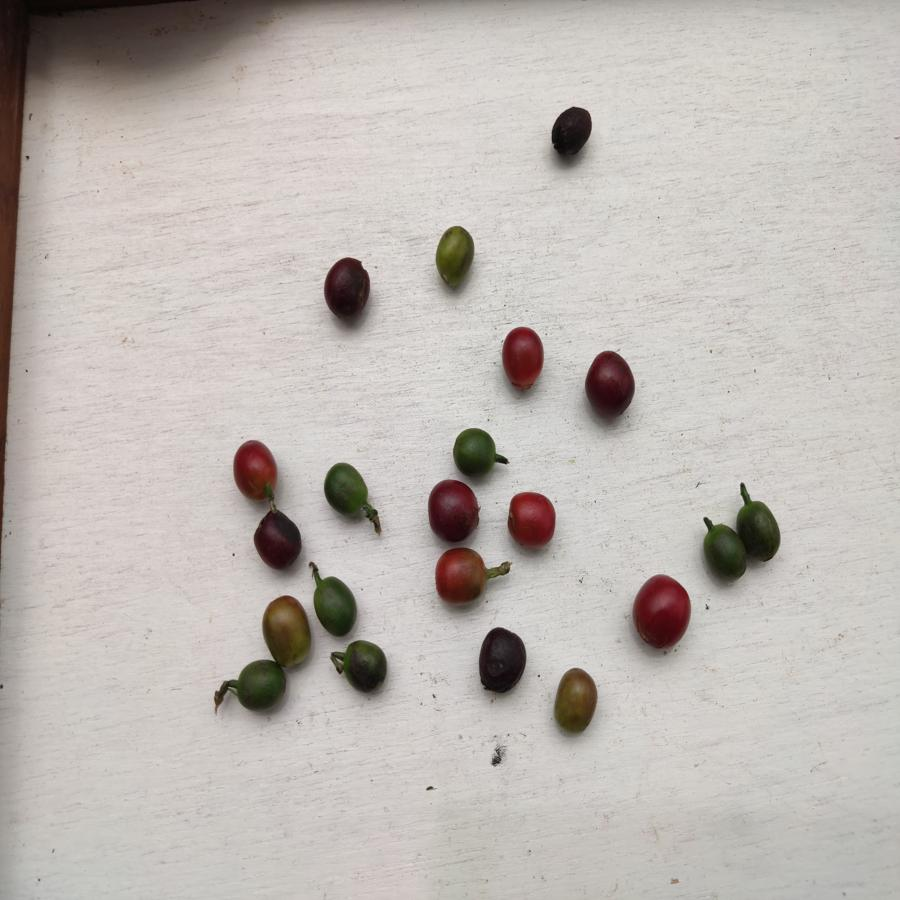Inmaduro: (322, 458, 373, 518), (231, 659, 287, 712), (734, 500, 783, 560), (312, 575, 357, 639), (703, 523, 750, 580), (341, 640, 390, 691), (451, 426, 497, 477)
Maduro: (631, 574, 693, 652), (495, 326, 548, 391), (231, 439, 281, 501), (506, 489, 557, 548)
Pinton: (262, 597, 317, 669), (432, 546, 488, 606), (553, 665, 599, 735), (435, 224, 476, 287)
Sobremaduro: (424, 477, 483, 542), (585, 350, 636, 418), (478, 625, 526, 694), (322, 255, 371, 319), (253, 510, 303, 567), (550, 107, 594, 159)
